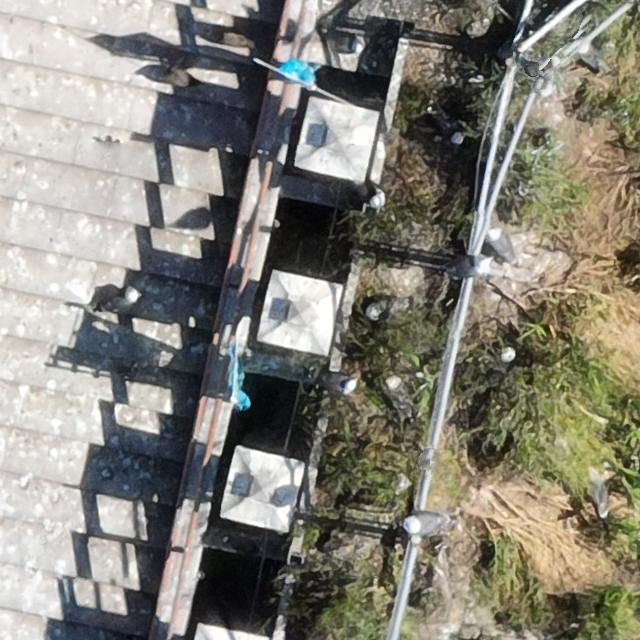umineko: (386, 374, 416, 416), (363, 294, 408, 320), (586, 470, 609, 518), (488, 230, 519, 265), (450, 255, 492, 279), (349, 185, 387, 207), (403, 514, 445, 532), (580, 42, 606, 71), (484, 345, 518, 367), (104, 292, 138, 312), (334, 34, 368, 52), (336, 374, 356, 394), (445, 127, 463, 145)
